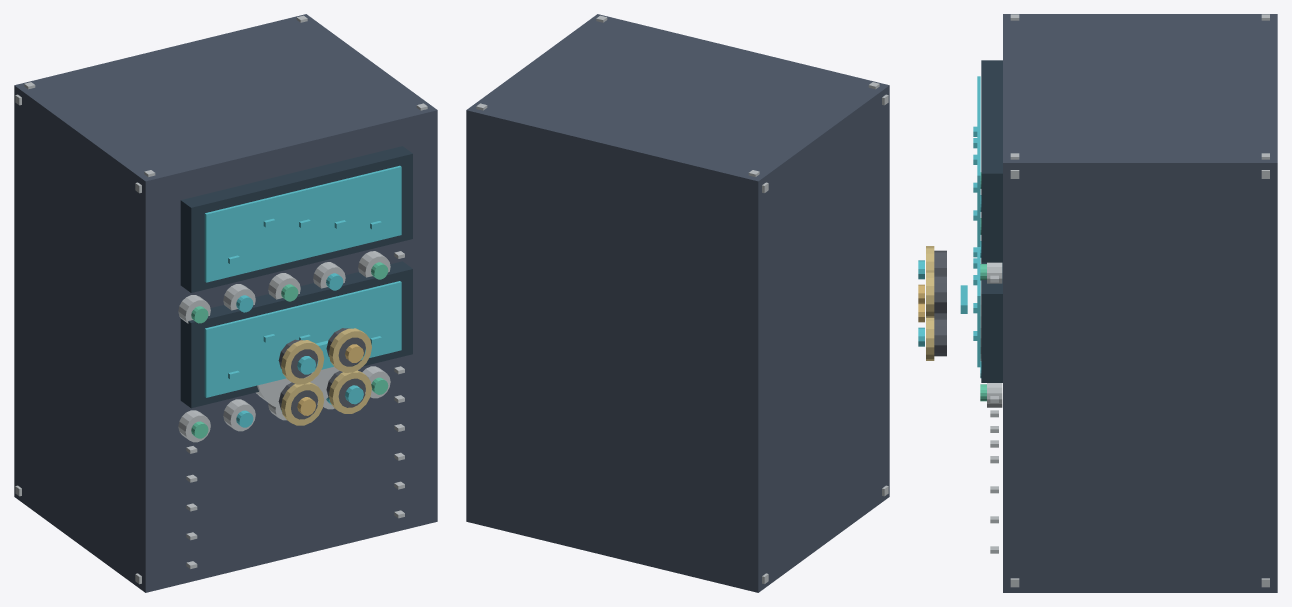
File: 56_L82_SpreadSpectrumClockController.glb
3 renders of one model, left to right at view 1: azimuth 30°, elevation 25°; view 2: azimuth 150°, elevation 25°; view 3: azimuth 270°, elevation 25°, orthographic. The views are drawn at different scales.
Visible parts, largest first — view 1: SpreadSpectrumClockController_Node_0000, SpreadSpectrumClockController_Node_0010, SpreadSpectrumClockController_Node_0027, SpreadSpectrumClockController_Node_0009, SpreadSpectrumClockController_Node_0026, SpreadSpectrumClockController_Node_0069, SpreadSpectrumClockController_Node_0078, SpreadSpectrumClockController_Node_0081, SpreadSpectrumClockController_Node_0072, SpreadSpectrumClockController_Node_0075, SpreadSpectrumClockController_Node_0035, SpreadSpectrumClockController_Node_0033; view 2: SpreadSpectrumClockController_Node_0000; view 3: SpreadSpectrumClockController_Node_0000, SpreadSpectrumClockController_Node_0009, SpreadSpectrumClockController_Node_0026, SpreadSpectrumClockController_Node_0010, SpreadSpectrumClockController_Node_0074, SpreadSpectrumClockController_Node_0080, SpreadSpectrumClockController_Node_0027.
Boxes of the visible parts, x1=… form: SpreadSpectrumClockController_Node_0000: x1=14, y1=14, x2=437, y2=592; SpreadSpectrumClockController_Node_0010: x1=204, y1=165, x2=401, y2=282; SpreadSpectrumClockController_Node_0027: x1=204, y1=281, x2=401, y2=397; SpreadSpectrumClockController_Node_0009: x1=180, y1=146, x2=412, y2=292; SpreadSpectrumClockController_Node_0026: x1=180, y1=261, x2=412, y2=408; SpreadSpectrumClockController_Node_0069: x1=256, y1=367, x2=339, y2=409; SpreadSpectrumClockController_Node_0078: x1=281, y1=340, x2=324, y2=384; SpreadSpectrumClockController_Node_0081: x1=329, y1=328, x2=371, y2=372; SpreadSpectrumClockController_Node_0072: x1=281, y1=382, x2=324, y2=425; SpreadSpectrumClockController_Node_0075: x1=329, y1=370, x2=371, y2=413; SpreadSpectrumClockController_Node_0035: x1=223, y1=399, x2=255, y2=431; SpreadSpectrumClockController_Node_0033: x1=178, y1=410, x2=210, y2=442; SpreadSpectrumClockController_Node_0000: x1=466, y1=14, x2=889, y2=592; SpreadSpectrumClockController_Node_0000: x1=1003, y1=14, x2=1277, y2=592; SpreadSpectrumClockController_Node_0009: x1=981, y1=60, x2=1002, y2=262; SpreadSpectrumClockController_Node_0026: x1=981, y1=262, x2=1002, y2=382; SpreadSpectrumClockController_Node_0010: x1=977, y1=76, x2=980, y2=246; SpreadSpectrumClockController_Node_0074: x1=934, y1=318, x2=946, y2=356; SpreadSpectrumClockController_Node_0080: x1=934, y1=275, x2=946, y2=313; SpreadSpectrumClockController_Node_0027: x1=977, y1=247, x2=980, y2=367.
Size of the model in its own units: 1.06 by 1.42 by 1.06.
